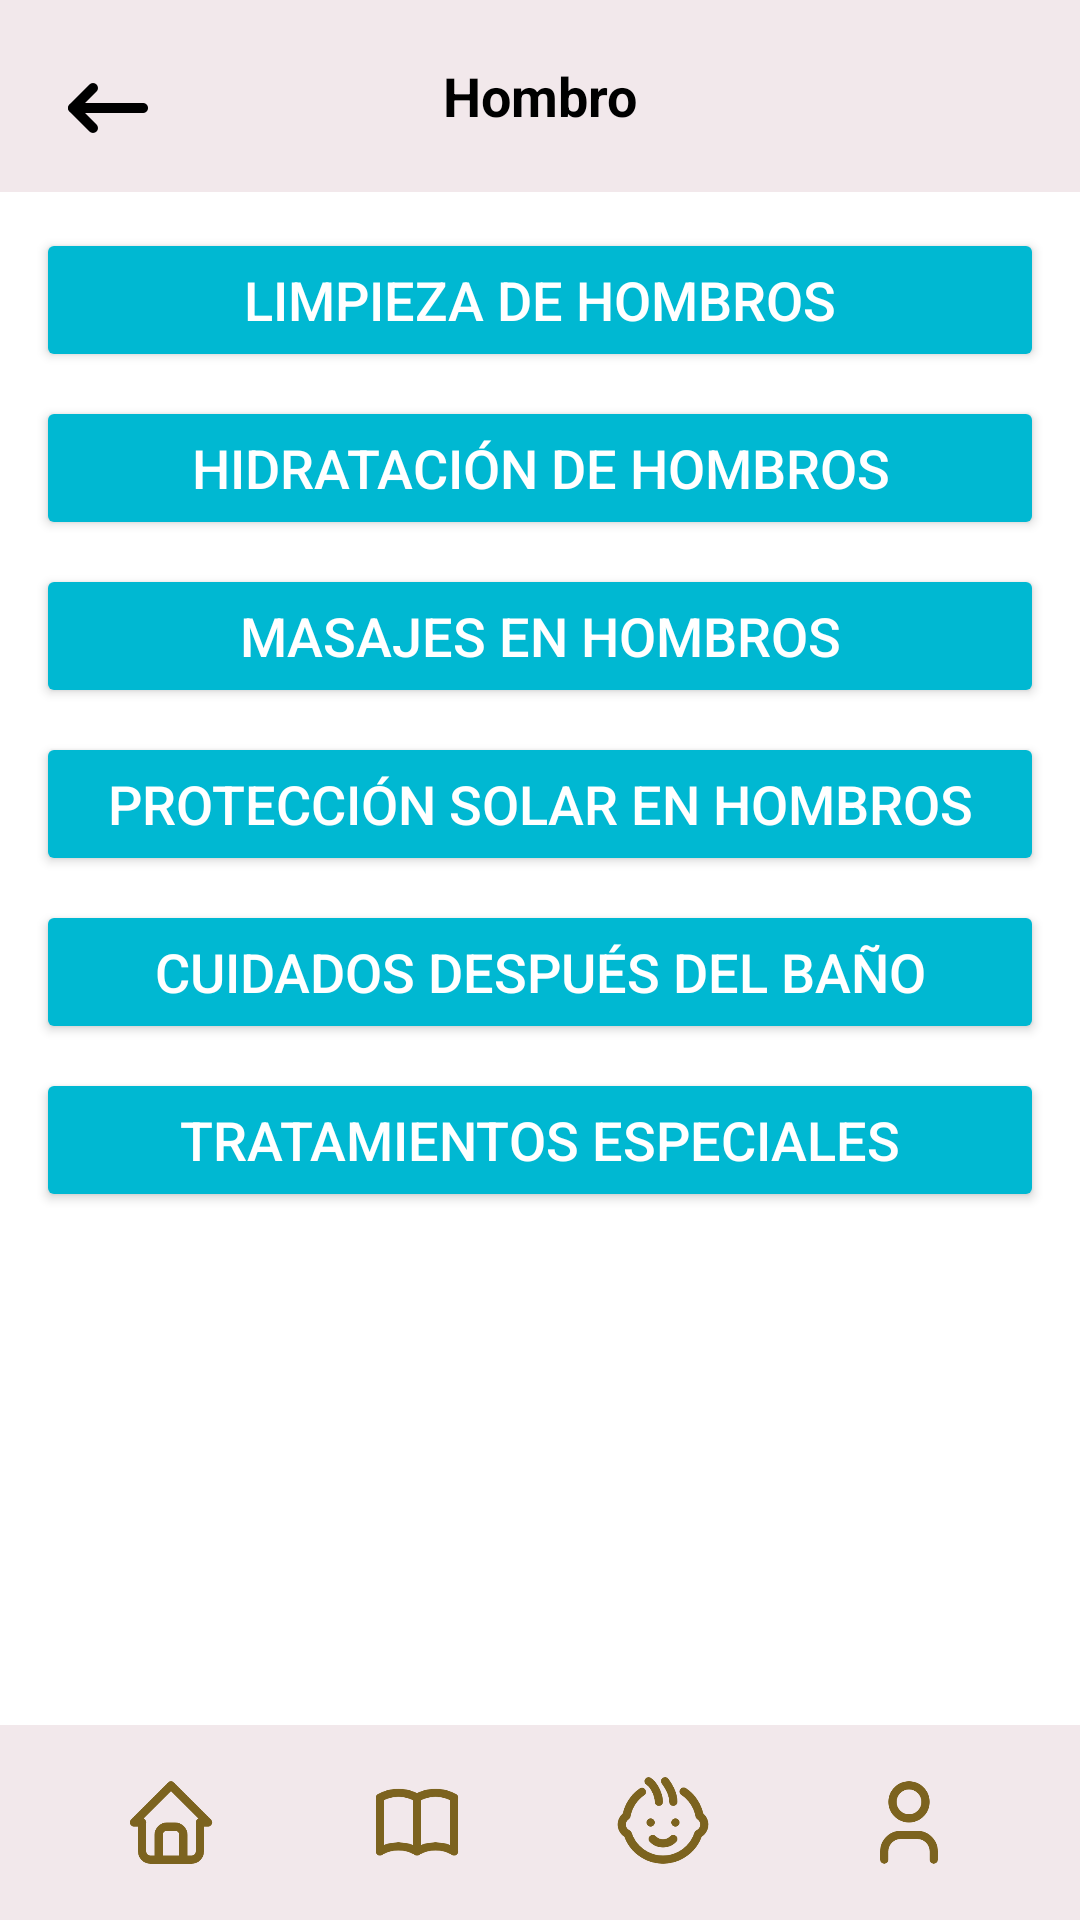

Icon bounding boxes for this 1080 × 1920 phone screenshot, format (x1, y1, x2, y2):
book: (376, 1789, 458, 1856)
home: (130, 1781, 212, 1864)
moodboy: (617, 1777, 709, 1864)
patra: (68, 83, 148, 133)
personaa: (880, 1781, 938, 1864)
